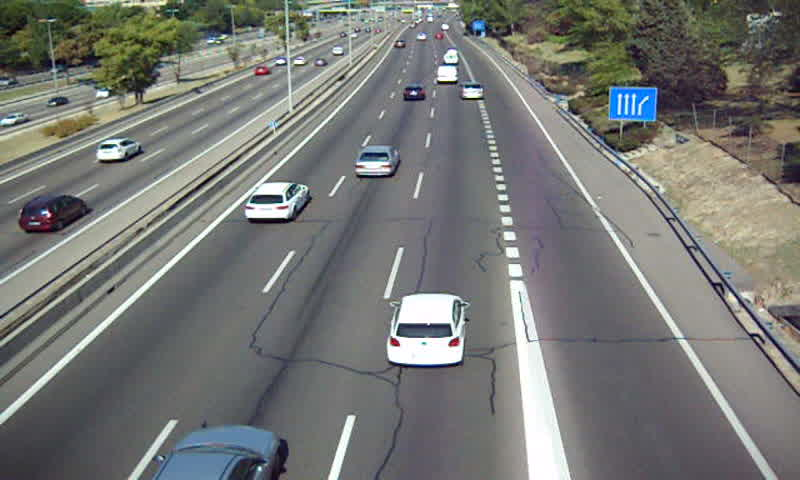car: (387, 293, 464, 366), (243, 182, 309, 221), (356, 146, 401, 179), (460, 81, 486, 101), (402, 85, 427, 102)
van: (436, 65, 458, 83), (445, 52, 460, 65)
